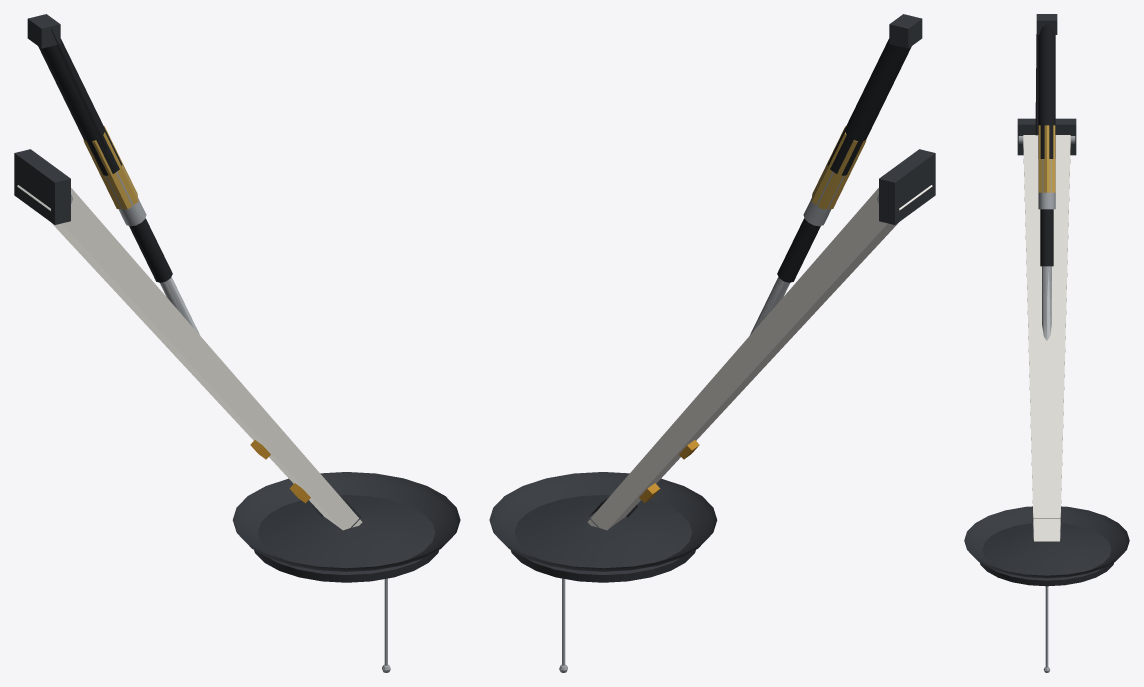
Rendered from legs_glenn_l.glb.
3 renders of one model, left to right at view 1: azimuth 30°, elevation 25°; view 2: azimuth 150°, elevation 25°; view 3: azimuth 270°, elevation 25°, orthographic. The views are drawn at different scales.
Parts seen in each view (by area): view 1: leg, slot_pads__large, slot_pads__dish, slot_shock__telescope, hinge, slot_shock, slot_shock__hydraulic; view 2: leg, slot_pads__large, slot_pads__dish, slot_shock__telescope, hinge, slot_shock; view 3: leg, slot_pads__large, slot_pads__dish, slot_shock__telescope, slot_shock, hinge, slot_shock__hydraulic, slot_probes__probes.
Boxes of the visible parts, x1,y1,x2,y2 form: leg: [17, 185, 362, 530]; slot_pads__large: [254, 495, 438, 582]; slot_pads__dish: [232, 472, 460, 571]; slot_shock__telescope: [34, 38, 199, 334]; hinge: [14, 149, 72, 224]; slot_shock: [27, 14, 198, 331]; slot_shock__hydraulic: [51, 29, 146, 226]; leg: [587, 185, 932, 530]; slot_pads__large: [510, 495, 695, 582]; slot_pads__dish: [489, 472, 717, 571]; slot_shock__telescope: [751, 38, 915, 332]; hinge: [877, 149, 935, 224]; slot_shock: [750, 14, 922, 334]; leg: [1023, 135, 1070, 541]; slot_pads__large: [979, 523, 1114, 586]; slot_pads__dish: [964, 506, 1129, 578]; slot_shock__telescope: [1038, 24, 1055, 340]; slot_shock: [1036, 14, 1057, 338]; hinge: [1017, 118, 1076, 155]; slot_shock__hydraulic: [1035, 34, 1055, 209]; slot_probes__probes: [1043, 586, 1050, 672].
Bounding box in the file's own units: 3.05 × 5.2 × 1.46.
